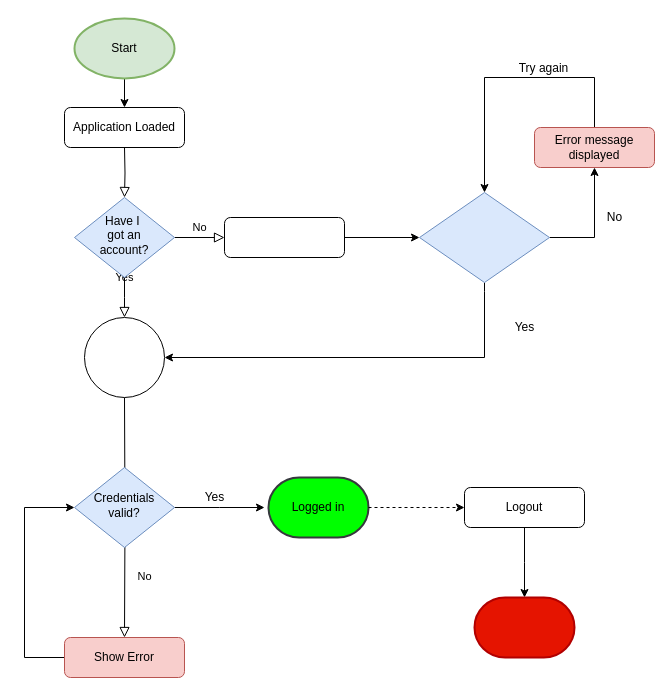
This 672x695 diagram has some shape labels left out. The shapes that lost their labels are listed below. From the top down, each one's box as (x1, y1, x2, y2) in pixels, then its label:
(224, 216, 344, 258): Create an Account
(418, 192, 550, 282): Account Created Successfully?
(84, 316, 164, 398): Login
(473, 596, 575, 658): End
